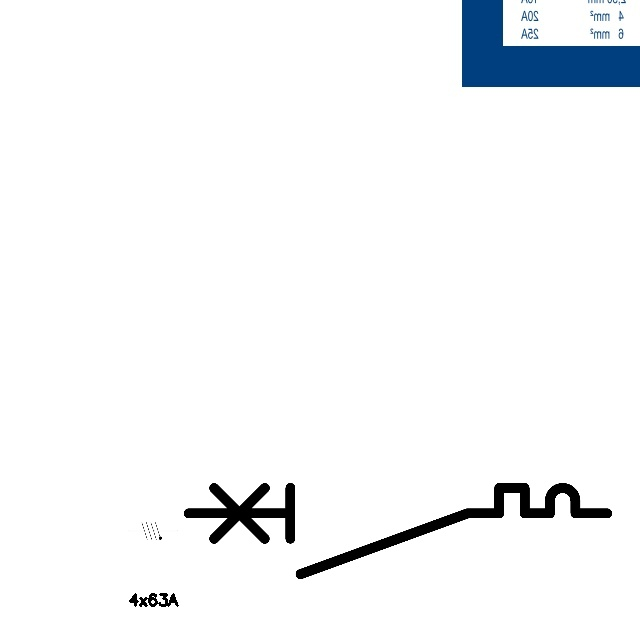interruptor_termomagnetico: (177, 477, 617, 585)
